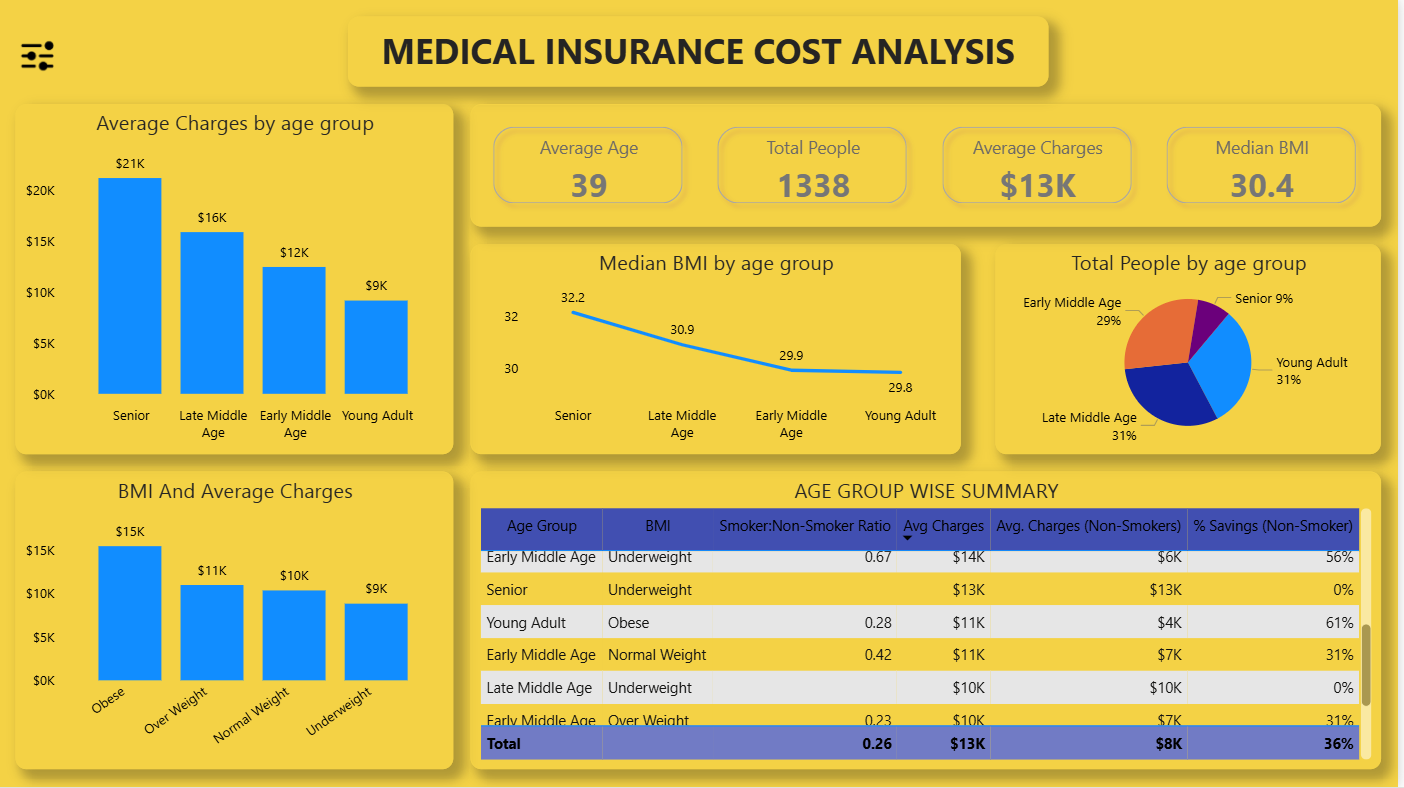

This screenshot's page, from the dashboard's own definition file:
{"tool":"powerbi","page":{"name":"Page 1","canvas":[1280,720],"ordinal":0},"visuals":[{"type":"clusteredColumnChart","fields":{"Category":["insurance.age group"],"Y":["insurance.Average Charges"]},"box":[16,96,400,320],"z":0},{"type":"pieChart","fields":{"Category":["insurance.age group"],"Y":["insurance.Total People"]},"box":[912,224,352,192],"z":1000},{"type":"lineChart","fields":{"Category":["insurance.age group"],"Y":["insurance.Median BMI"]},"box":[432,224,448,192],"z":2000},{"type":"clusteredColumnChart","title":"BMI And Average Charges","fields":{"Y":["insurance.Average Charges"],"Category":["insurance.bmi category"]},"box":[16,432,400,272],"z":3000},{"type":"tableEx","title":"AGE GROUP WISE SUMMARY","fields":{"Values":["insurance.age group","insurance.bmi category","insurance.Ration of smoker to non smoker","insurance.Average Charges","insurance.Average Charges No smoking","insurance.% less charges if no smoking"]},"box":[432,432,832,272],"z":4000},{"type":"textbox","box":[320,16,640,64],"z":5000},{"type":"cardVisual","title":"main card","fields":{"Data":["insurance.Average Age","insurance.Total People","insurance.Average Charges","insurance.Average BMI"]},"box":[432,96,832,112],"z":6000},{"type":"actionButton","title":"fILTER LOGO","box":[16,32,40,40],"z":7000}]}

Visuals, with their boxes in screenshot pixels (x1, y1, x2, y2), scaled from the page's 1280x720 canvas onto the 1404x788 screenshot:
clusteredColumnChart - insurance.age group x insurance.Average Charges: 18:105:456:455
pieChart - insurance.age group x insurance.Total People: 1000:245:1386:455
lineChart - insurance.age group x insurance.Median BMI: 474:245:965:455
"BMI And Average Charges" clusteredColumnChart: 18:473:456:770
"AGE GROUP WISE SUMMARY" tableEx: 474:473:1386:770
textbox: 351:18:1053:88
"main card" cardVisual: 474:105:1386:228
"fILTER LOGO" actionButton: 18:35:61:79
